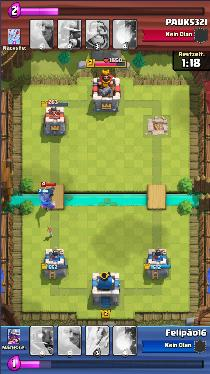ally_knight: (37, 193, 55, 211)
enemy_mini_pekka: (45, 185, 56, 194)
